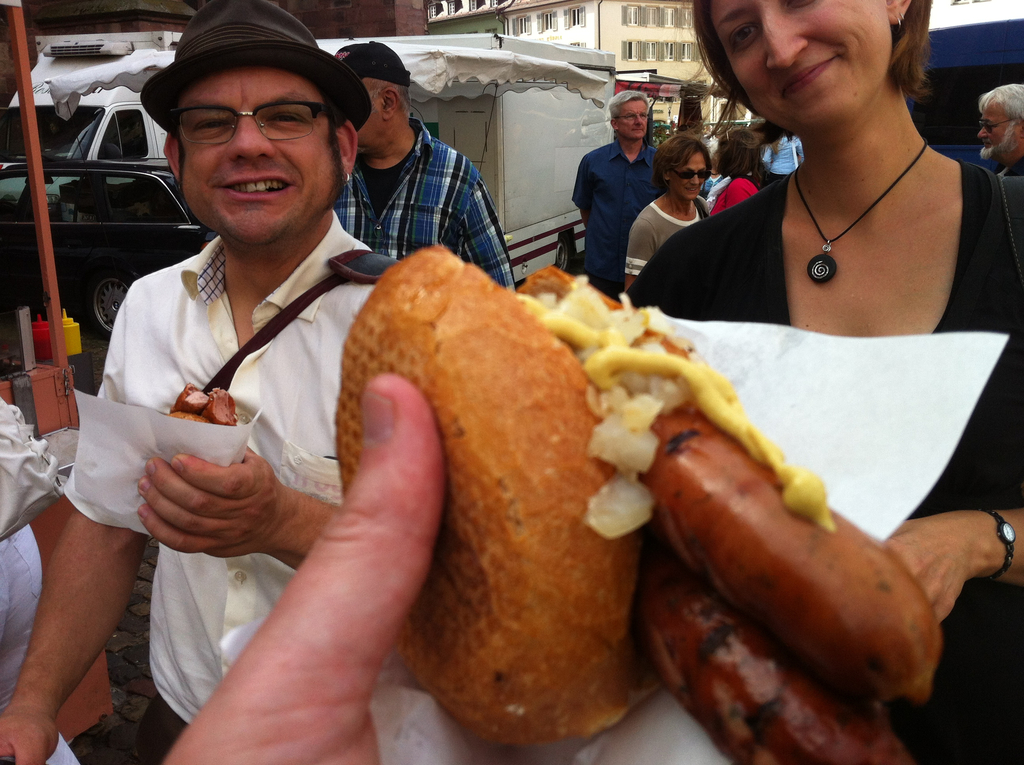hot_dog: (292, 204, 915, 743)
